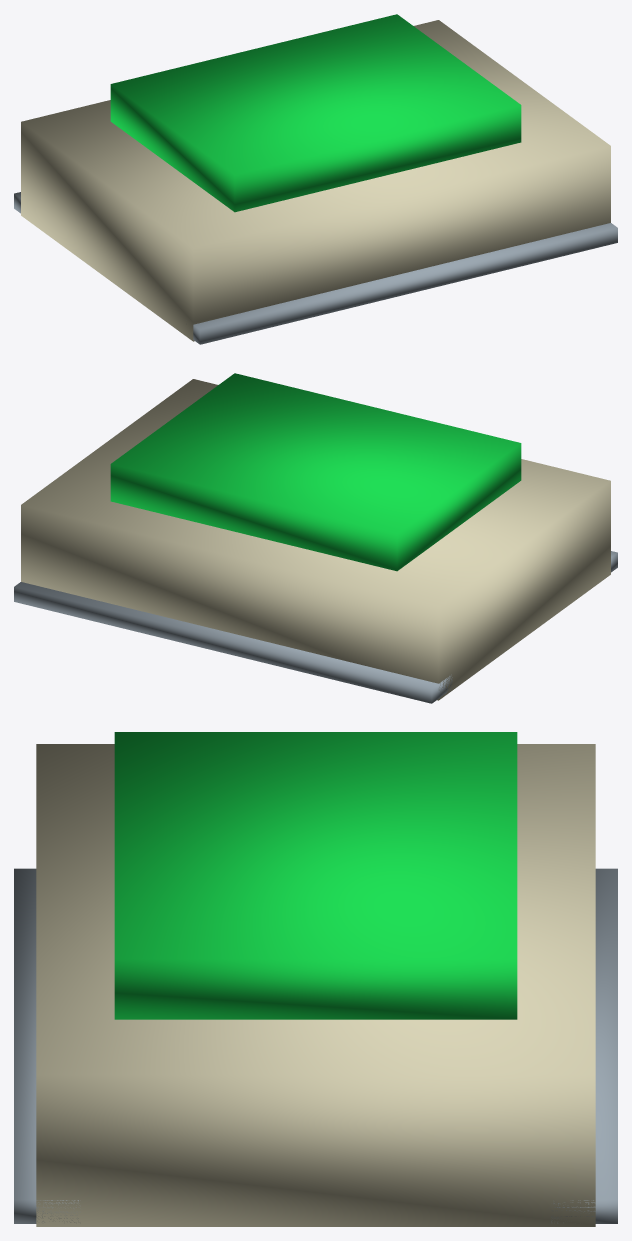
Rendered from 53_L98_LED1.fbx.
The picture shows the model from 3 angles, top to bottom: view 1: azimuth 30°, elevation 25°; view 2: azimuth 150°, elevation 25°; view 3: azimuth 270°, elevation 25°; orthographic projection. The views are drawn at different scales.
Parts seen in each view (by area): view 1: Part_000, Part_001, Part_002; view 2: Part_000, Part_001, Part_003; view 3: Part_000, Part_001, Part_002, Part_003.
Part boxes in pixels (x1=…): Part_000: x1=21, y1=20, x2=610, y2=341; Part_001: x1=110, y1=14, x2=521, y2=212; Part_002: x1=193, y1=223, x2=617, y2=344; Part_000: x1=21, y1=379, x2=610, y2=700; Part_001: x1=110, y1=373, x2=521, y2=571; Part_003: x1=14, y1=582, x2=452, y2=703; Part_000: x1=36, y1=744, x2=595, y2=1226; Part_001: x1=114, y1=732, x2=517, y2=1019; Part_002: x1=14, y1=868, x2=78, y2=1223; Part_003: x1=551, y1=868, x2=617, y2=1223.
Size of the model in its own units: 0.0035 by 0.0027 by 0.00107.
